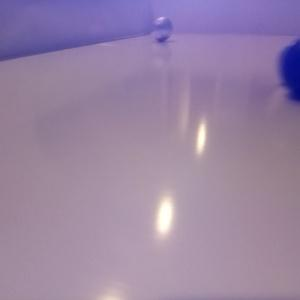alive_ball: (152, 16, 173, 42)
dead_ball: (278, 39, 300, 98)
